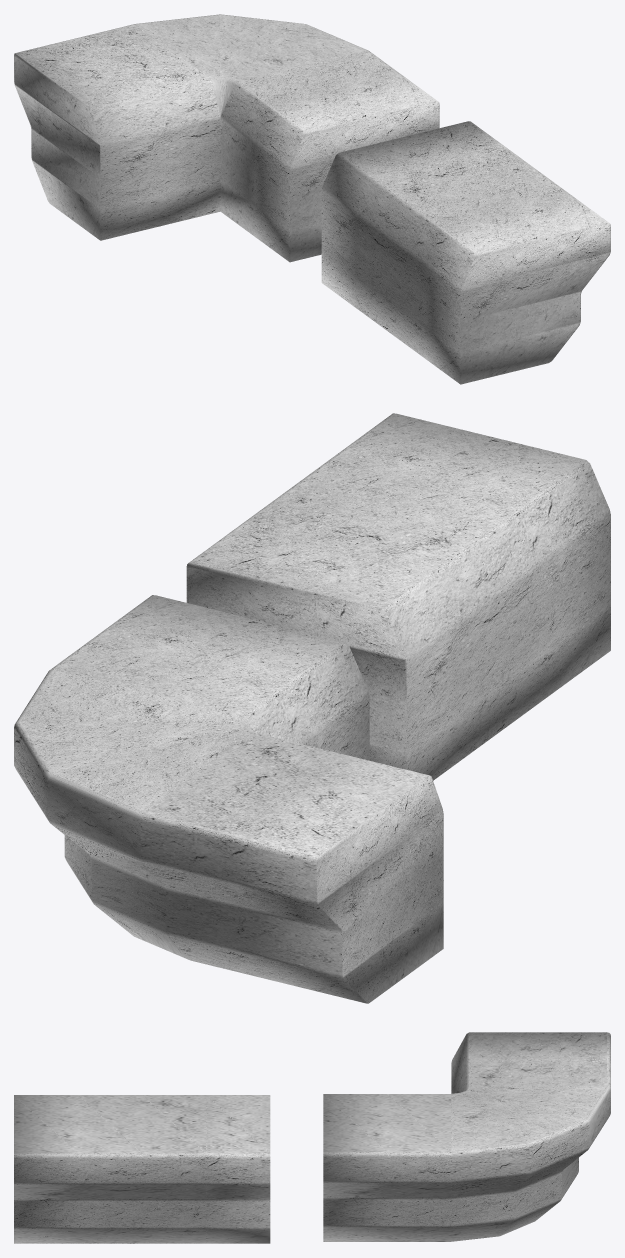
File: ledge.FBX
3 renders of one model, top to bottom at view 1: azimuth 30°, elevation 25°; view 2: azimuth 150°, elevation 25°; view 3: azimuth 270°, elevation 25°, orthographic. The views are drawn at different scales.
Visible parts, largest first — view 1: C_C, C_S; view 2: C_C, C_S; view 3: C_C, C_S.
Part boxes in pixels (left/top/right/bottom): C_C: left=14, top=14, right=439, bottom=262; C_S: left=321, top=121, right=610, bottom=384; C_C: left=14, top=595, right=443, bottom=1003; C_S: left=186, top=413, right=610, bottom=780; C_C: left=323, top=1032, right=610, bottom=1241; C_S: left=14, top=1095, right=270, bottom=1243.
Bounding box in the file's own units: 229 × 101 × 469.
